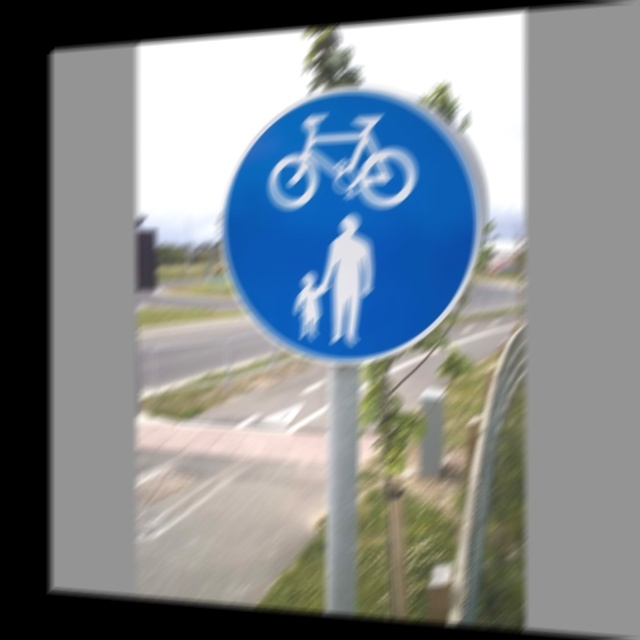Compulsory_Cycle_Track: (227, 76, 485, 352)
